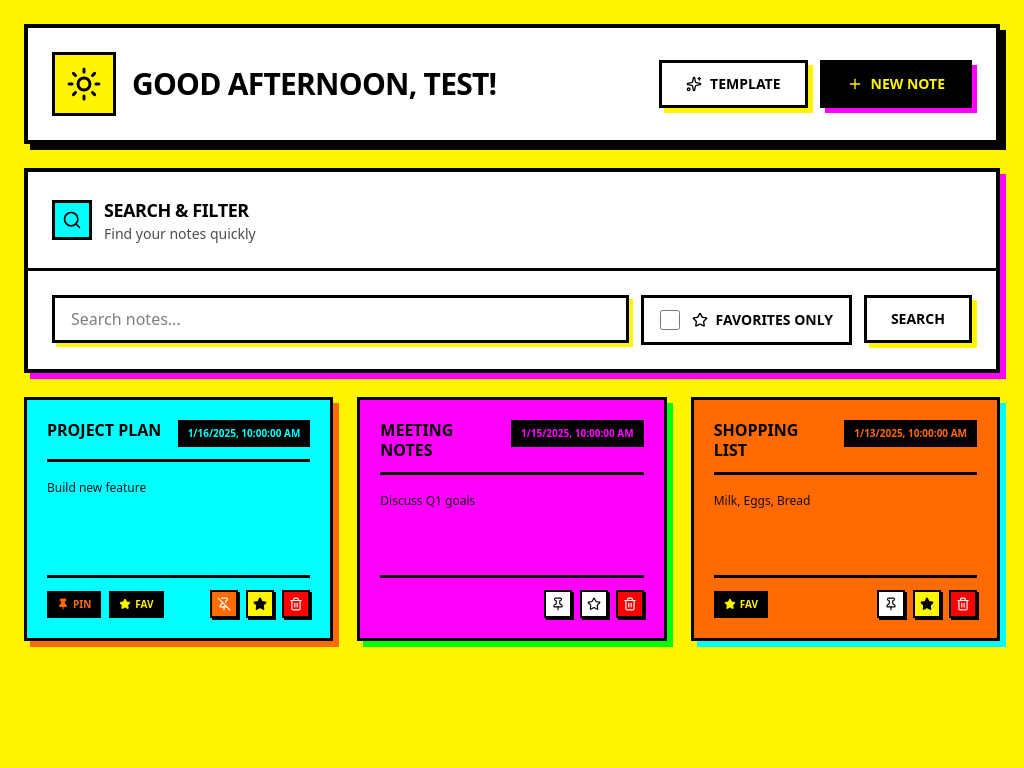
Scenario: Dashboard - Functional Tests › Pin Functionality › should display error message when pin action fails
Expected: the heading "Meeting Notes" is shown, [380,419,453,461]
Step 1. Click the button named "pin note" below "Discuss Q1 goals" → click(558, 604), box [544,590,572,618]
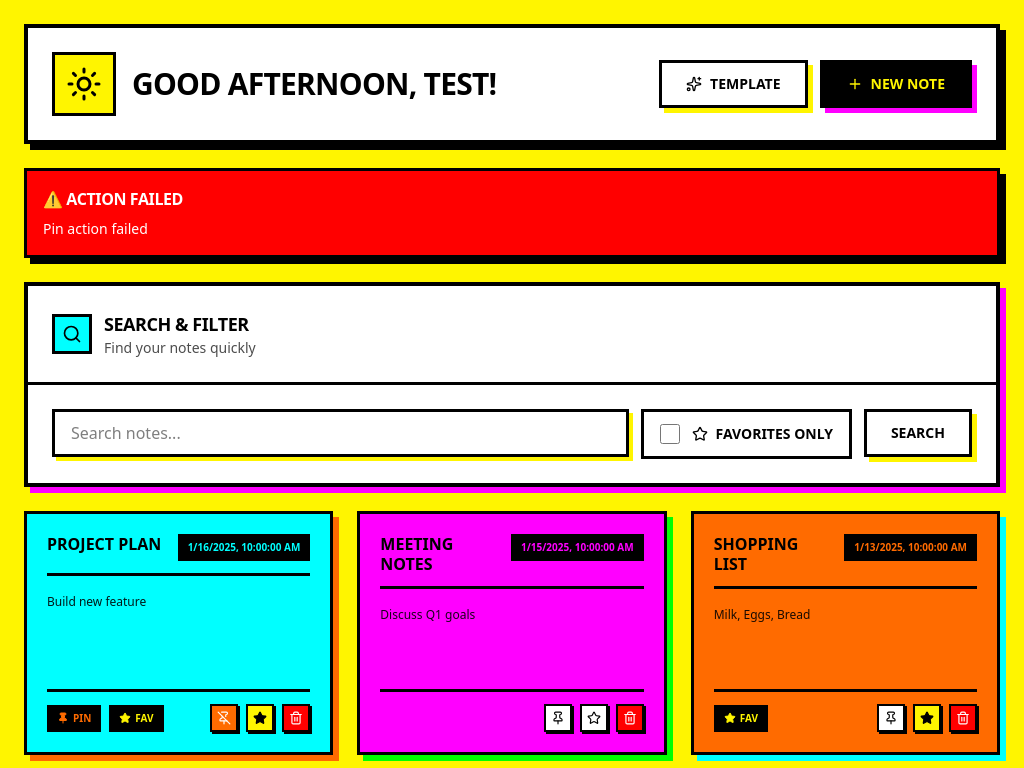
Expected: the text "Pin action failed" is shown, [43,219,148,238]
